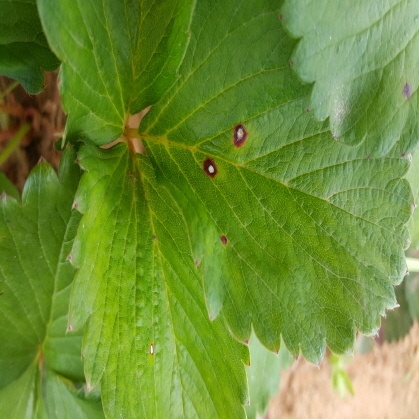Leaf_Spot: (137, 49, 417, 418), (64, 0, 252, 282), (281, 41, 418, 418)
